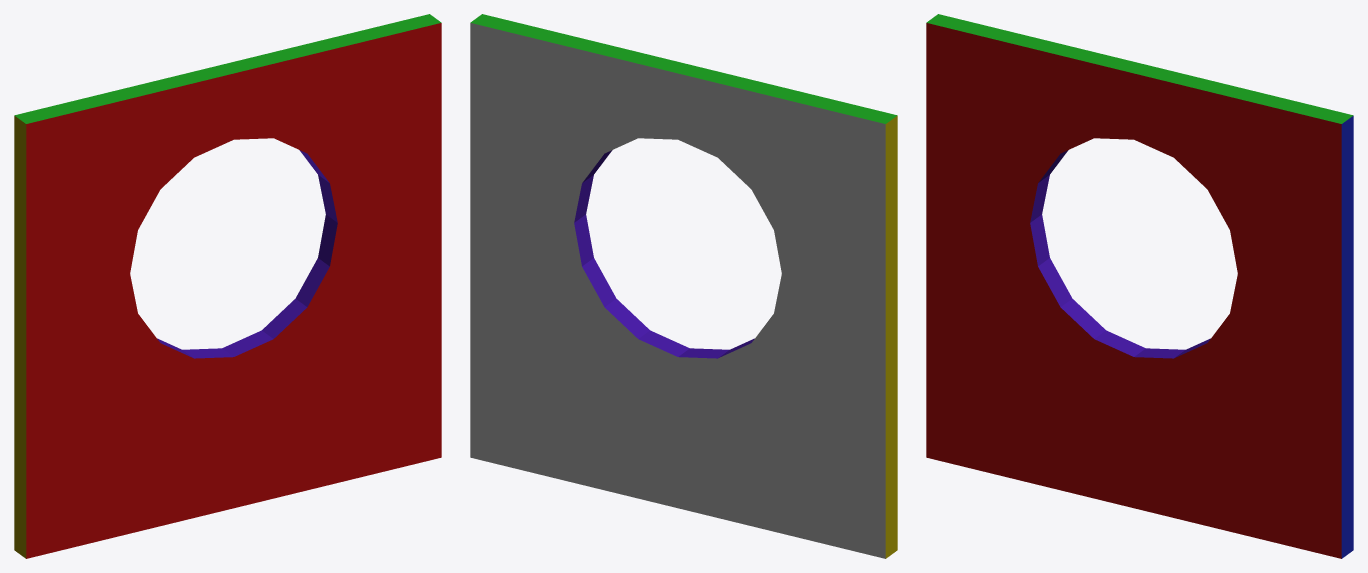
File: Wall_Window_08a.fbx
3 views of the same model, side by side, from view 1: azimuth 30°, elevation 25°; view 2: azimuth 150°, elevation 25°; view 3: azimuth 330°, elevation 25° (orthographic).
Parts seen in each view (by area): view 1: Wall_Window_08a; view 2: Wall_Window_08a; view 3: Wall_Window_08a.
Part boxes in pixels (x1,y1,x2,y2): Wall_Window_08a: [14, 14, 441, 558]; Wall_Window_08a: [470, 14, 897, 558]; Wall_Window_08a: [926, 14, 1353, 558].
Size of the model in its own units: 3 by 0.15 by 3.
